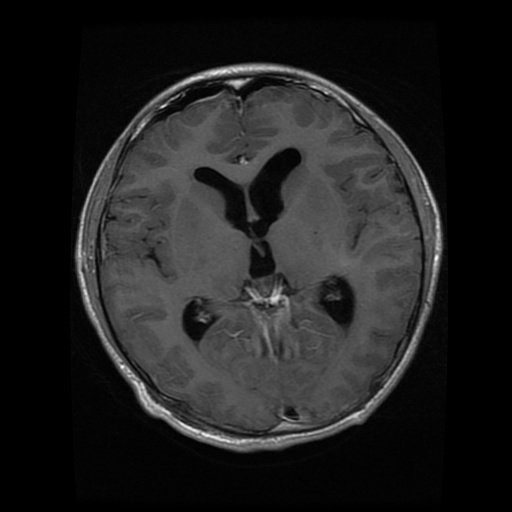glioma: (216, 273, 325, 362)
